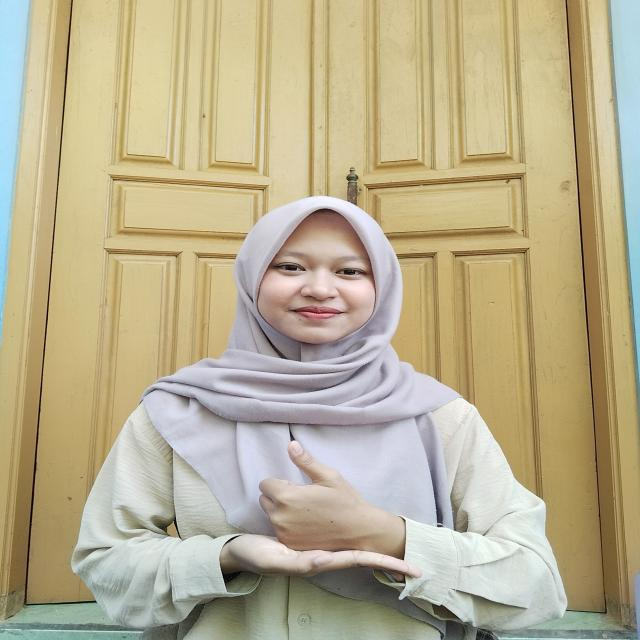cantik: (203, 433, 424, 590)
